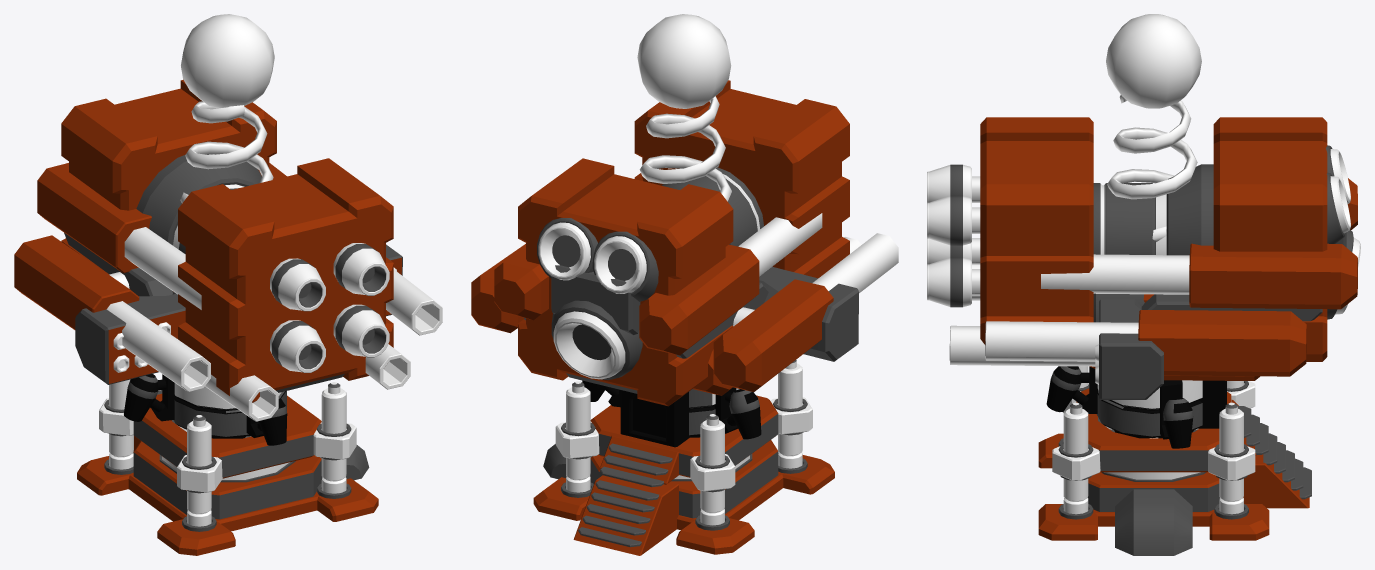
File: tower_3.fbx
3 views of the same model, side by side, from view 1: azimuth 30°, elevation 25°; view 2: azimuth 150°, elevation 25°; view 3: azimuth 270°, elevation 25° (orthographic).
Parts seen in each view (by area): view 1: Plasma_Unit_DNT, Cannons_DNT, Tower_Base_DNT, Tesla_Unit_DNT, Tower_Swivel_DNT, base2, Missile_Rack_02_DNT, Tower_Pylons_DNT; view 2: Plasma_Unit_DNT, Cannons_DNT, Tower_Base_DNT, Tesla_Unit_DNT, Tower_Swivel_DNT, base2, Tower_Pylons_DNT, Missile_Rack_02_DNT; view 3: Plasma_Unit_DNT, Cannons_DNT, Tower_Base_DNT, Tesla_Unit_DNT, Tower_Swivel_DNT, base2, Missile_Rack_02_DNT, Tower_Pylons_DNT.
Part boxes in pixels (x1,y1,x2,y2): Plasma_Unit_DNT: (61, 79, 393, 402); Cannons_DNT: (14, 163, 442, 421); Tower_Base_DNT: (77, 436, 378, 555); Tesla_Unit_DNT: (180, 14, 274, 203); Tower_Swivel_DNT: (99, 390, 356, 493); base2: (124, 374, 287, 445); Missile_Rack_02_DNT: (75, 244, 402, 384); Tower_Pylons_DNT: (109, 379, 346, 526); Plasma_Unit_DNT: (518, 80, 849, 406); Cannons_DNT: (471, 213, 898, 395); Tower_Base_DNT: (533, 440, 834, 555); Tesla_Unit_DNT: (637, 14, 731, 201); Tower_Swivel_DNT: (555, 395, 812, 492); base2: (582, 380, 761, 447); Tower_Pylons_DNT: (566, 360, 802, 525); Missile_Rack_02_DNT: (759, 266, 858, 361); Plasma_Unit_DNT: (927, 117, 1360, 361); Cannons_DNT: (949, 178, 1357, 380); Tower_Base_DNT: (1038, 433, 1311, 555); Tesla_Unit_DNT: (1089, 14, 1201, 368); Tower_Swivel_DNT: (1052, 381, 1268, 480); base2: (1046, 366, 1226, 448); Missile_Rack_02_DNT: (1093, 293, 1163, 399); Tower_Pylons_DNT: (1063, 366, 1243, 514).
Bounding box in the file's own units: 442 × 672 × 558.
